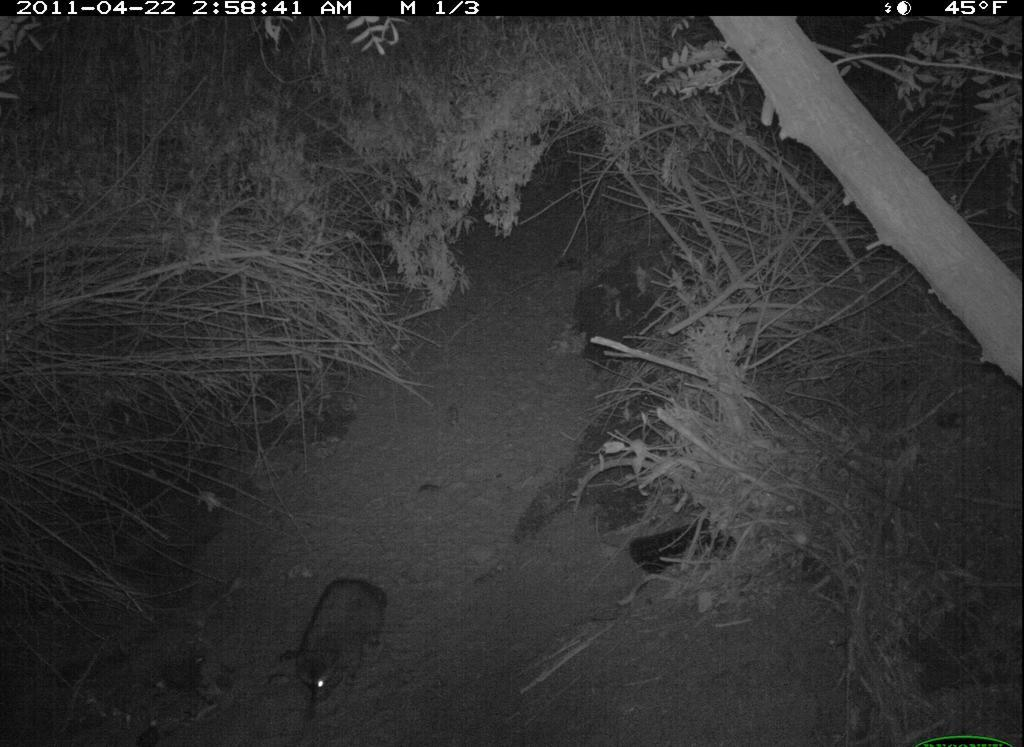raccoon: (269, 567, 399, 725)
